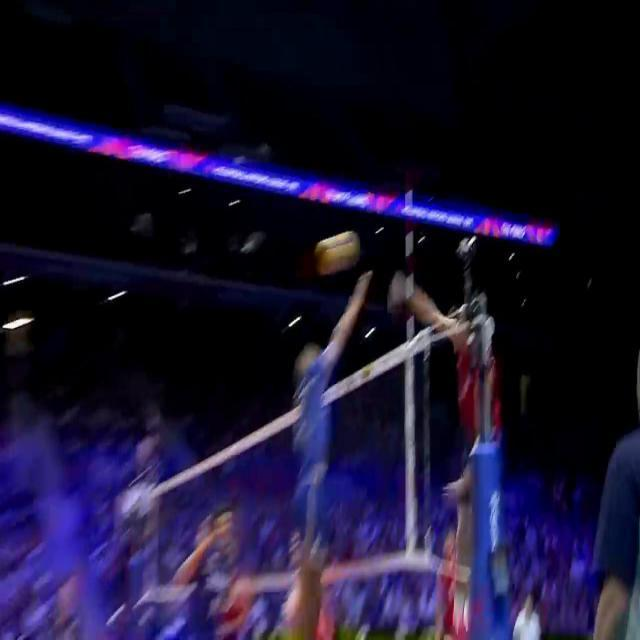volleyball: (315, 232, 360, 274)
